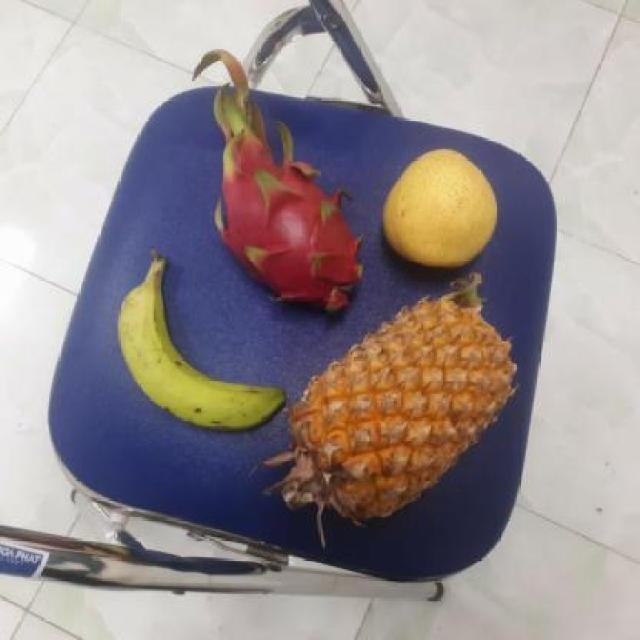banana: (113, 258, 282, 433)
dragon fruit: (216, 151, 364, 314)
pear: (377, 151, 498, 272)
pineapple: (276, 291, 505, 520)
